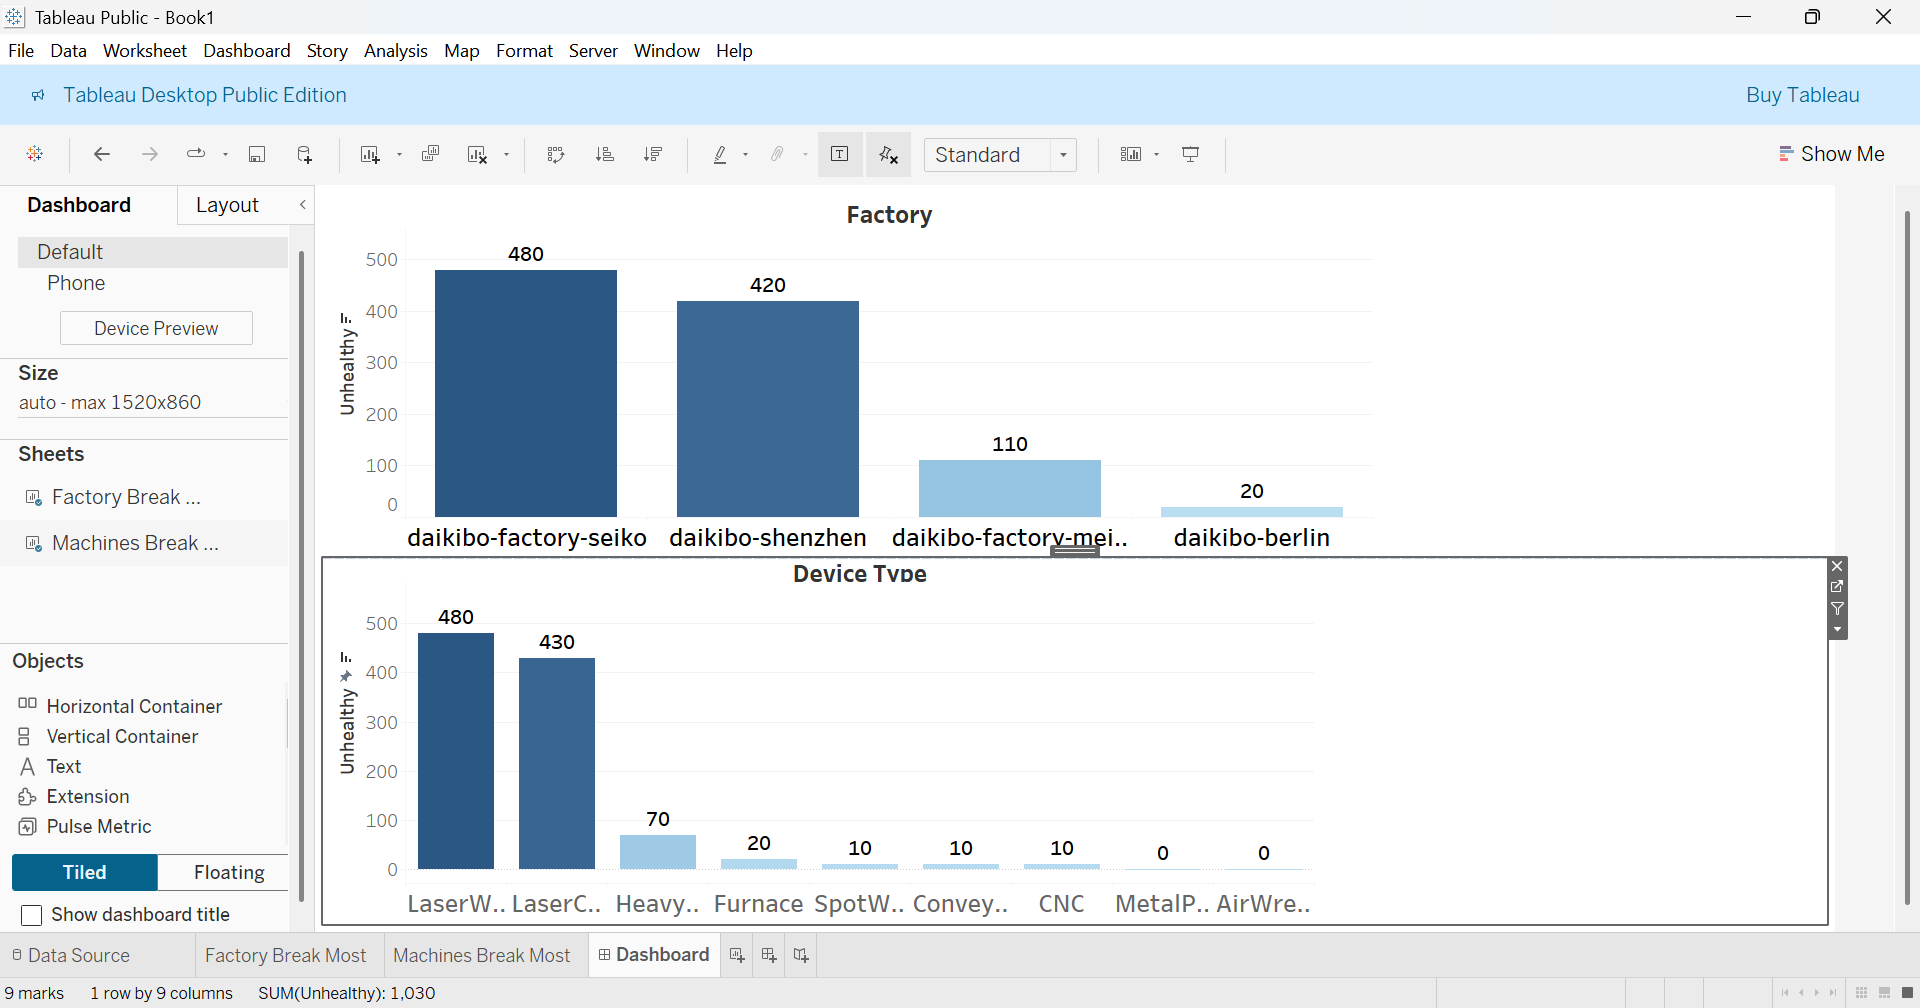

What the dashboard file says about the page in this screenshot:
{"tool":"tableau","page":{"name":"Dashboard","canvas":[1000,1000],"units":"permille","ordinal":0},"visuals":[{"type":"worksheet","title":"Factory Break Most","mark":"Automatic","rows":["Calculation_1268326284903149568"],"cols":["factory"],"box":[5.3,10.7,989.5,489.3]},{"type":"worksheet","title":"Machines Break Most","mark":"Automatic","rows":["Calculation_1268326284903149568"],"cols":["deviceType"],"box":[5.3,500,989.5,489.3]}]}

Visuals, with their boxes on the dashboard's canvas, which has no fixed pixel size, in thousandths of its width and height (x1, y1, x2, y2). These are canvas units, not pixel positions in the 1920x1008 screenshot, which may show the page scaled, cropped or inside an application window:
"Factory Break Most" worksheet: rect(5, 11, 995, 500)
"Machines Break Most" worksheet: rect(5, 500, 995, 989)
